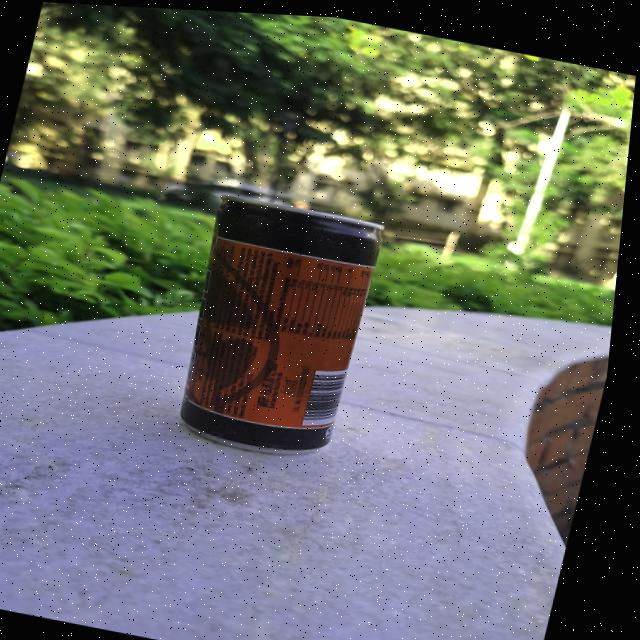Hell Classic: (165, 182, 396, 463)
